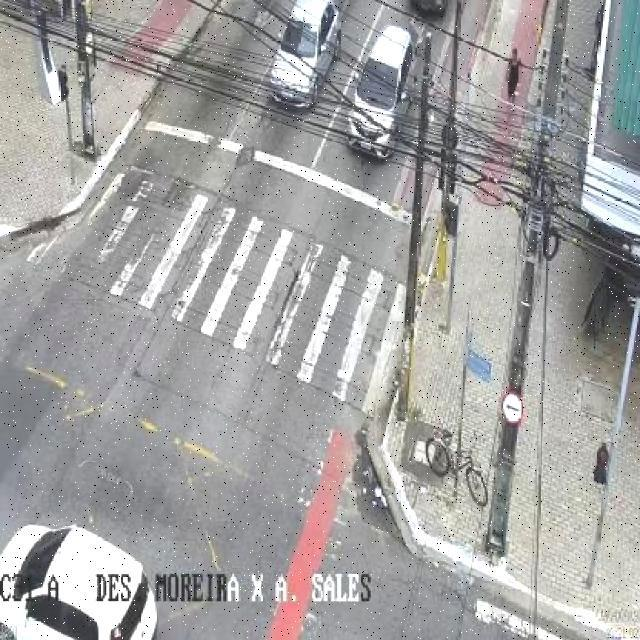Car: (0, 524, 159, 640), (346, 25, 414, 162), (268, 0, 344, 109)
Cycle: (423, 426, 491, 508)
